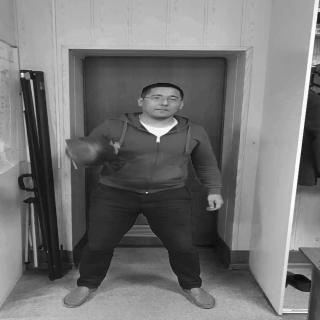kettlebell: (67, 136, 119, 169)
